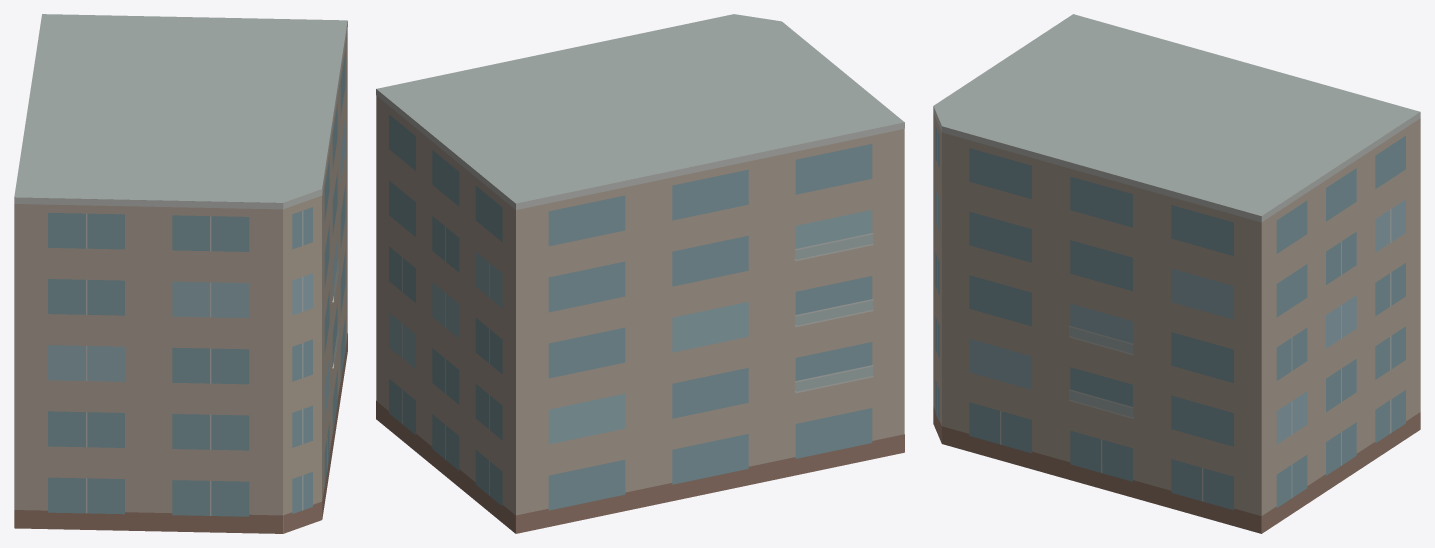
The model's file is survey-upis-32821128.glb.
3 views of the same model, side by side, from view 1: azimuth 30°, elevation 25°; view 2: azimuth 150°, elevation 25°; view 3: azimuth 270°, elevation 25° (orthographic). The views are drawn at different scales.
Parts seen in each view (by area): view 1: survey-upis-32821128.tmp; view 2: survey-upis-32821128.tmp; view 3: survey-upis-32821128.tmp.
Part boxes in pixels (x1=…): survey-upis-32821128.tmp: x1=14, y1=14, x2=347, y2=533; survey-upis-32821128.tmp: x1=376, y1=14, x2=904, y2=533; survey-upis-32821128.tmp: x1=933, y1=14, x2=1420, y2=533.
Bounding box in the file's own units: 16.93 × 12.4 × 17.25.
